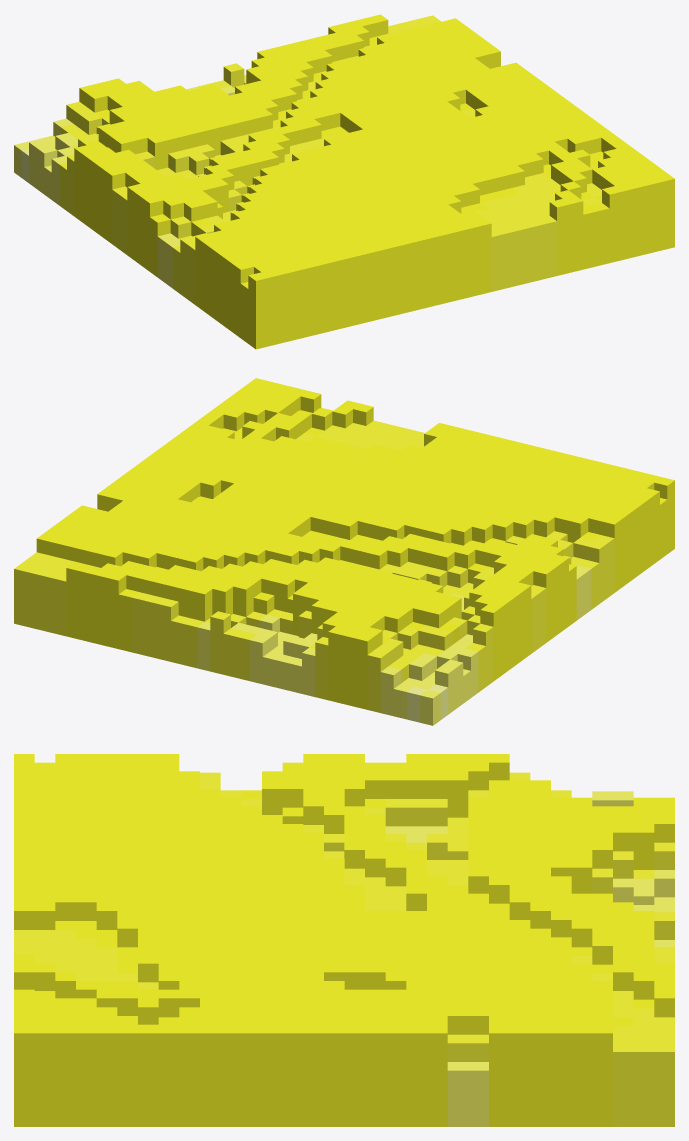
The model's file is Destert Map-8.obj.
The picture shows the model from 3 angles, top to bottom: view 1: azimuth 30°, elevation 25°; view 2: azimuth 150°, elevation 25°; view 3: azimuth 270°, elevation 25°; orthographic projection. The views are drawn at different scales.
Size of the model in its own units: 3.2 by 0.5 by 3.2.
Materials: 1 (1 with a texture image).
